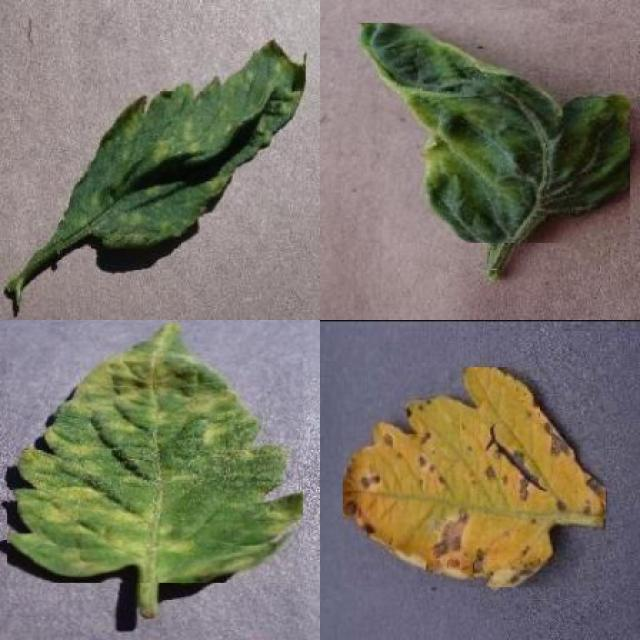Leaf Mold: (7, 324, 303, 584), (64, 38, 306, 248)
Septoria: (344, 367, 606, 587)
Yellow Leaf Curl Virus: (357, 23, 630, 244)
